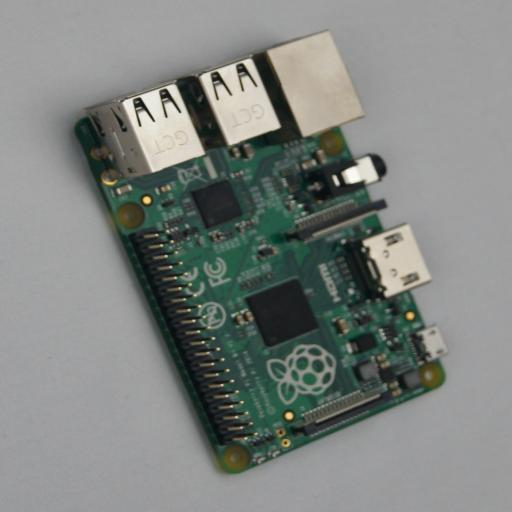Raspberry Pi 1 B-: (66, 38, 445, 474)
